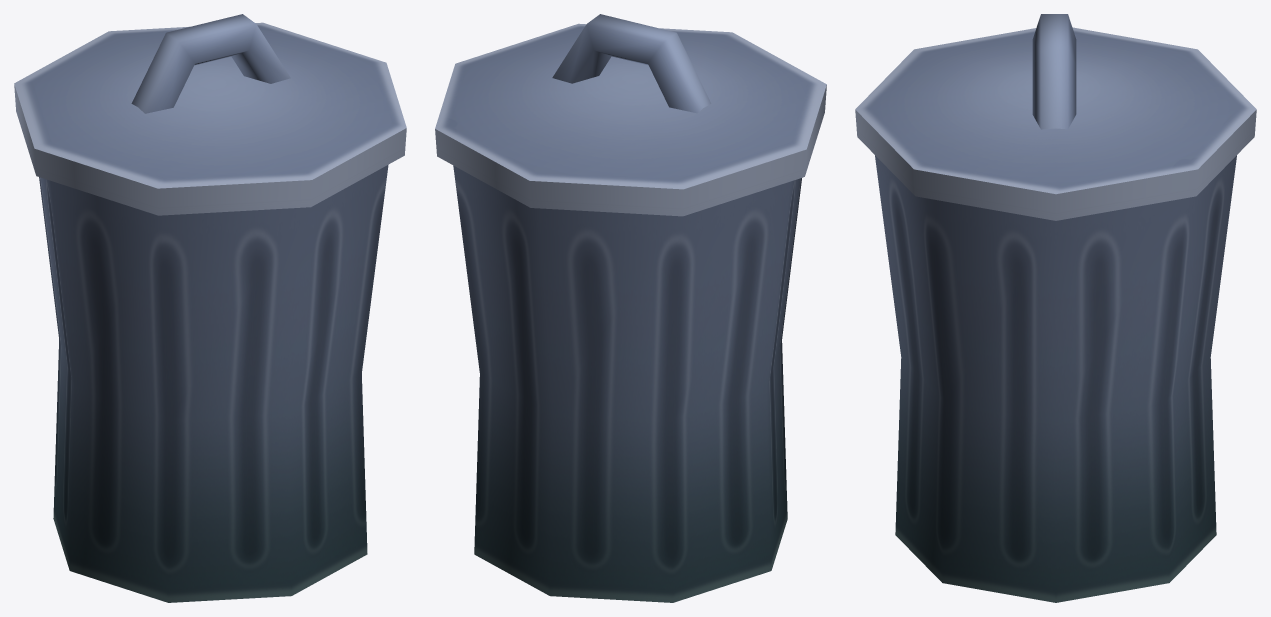
The model's file is prop_GarbageCan.fbx.
3 views of the same model, side by side, from view 1: azimuth 30°, elevation 25°; view 2: azimuth 150°, elevation 25°; view 3: azimuth 270°, elevation 25° (orthographic).
Visible parts, largest first — view 1: prop_GarbageCan01; view 2: prop_GarbageCan01; view 3: prop_GarbageCan01.
Part boxes in pixels (x1=…): prop_GarbageCan01: x1=14, y1=14, x2=406, y2=602; prop_GarbageCan01: x1=435, y1=14, x2=826, y2=602; prop_GarbageCan01: x1=855, y1=14, x2=1256, y2=602.
Size of the model in its own units: 175 by 242 by 175.
